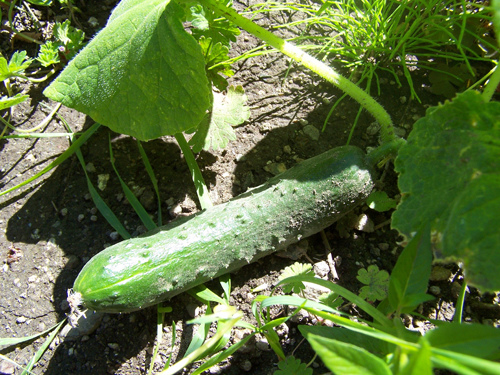cucumber: (71, 137, 402, 315)
